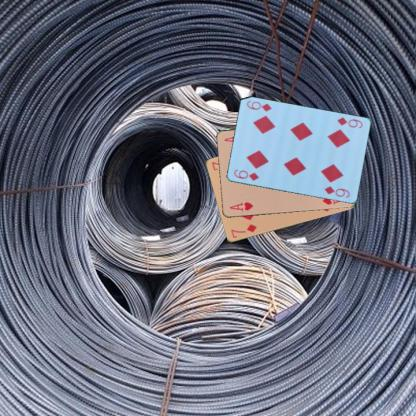6d: (334, 115, 364, 130), (231, 167, 260, 182)
7d: (228, 222, 258, 239)
Ah: (227, 198, 255, 212)
